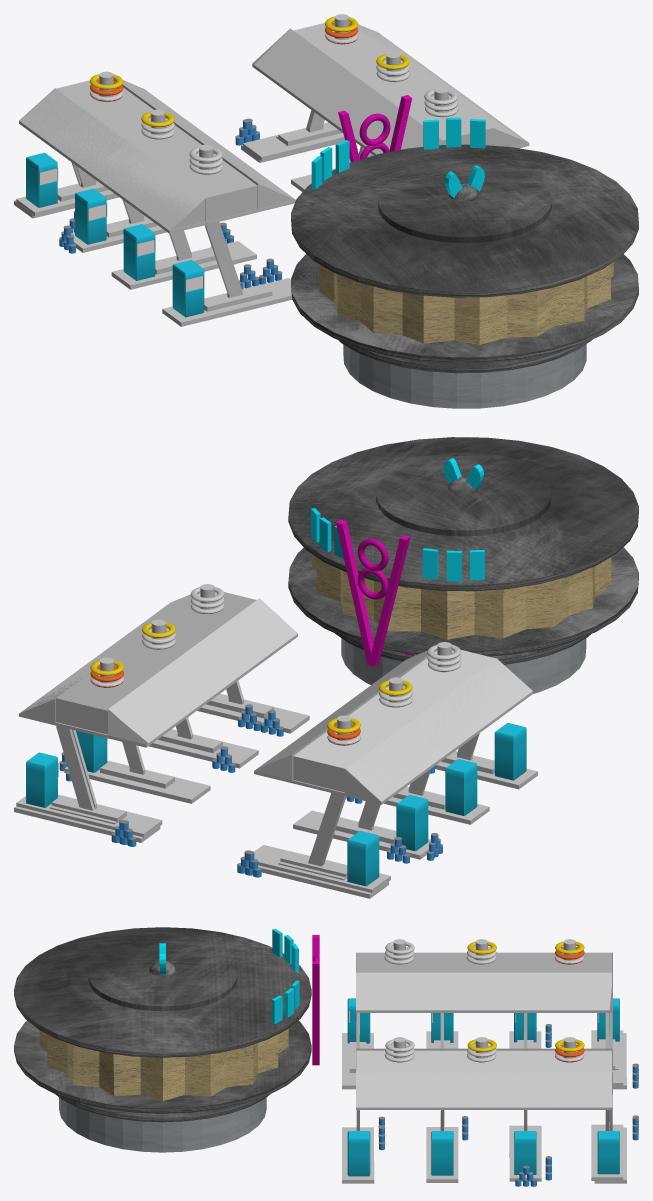
File: FloV8_4.fbx
The picture shows the model from 3 angles, top to bottom: view 1: azimuth 30°, elevation 25°; view 2: azimuth 150°, elevation 25°; view 3: azimuth 270°, elevation 25°; orthographic projection. The views are drawn at different scales.
Parts seen in each view (by area): view 1: Torus.017; view 2: Torus.017; view 3: Torus.017.
Boxes of the visible parts, box(x1,y1,x2,y2) form: Torus.017: box(14, 14, 638, 408); Torus.017: box(14, 437, 638, 898); Torus.017: box(14, 927, 638, 1186).
Size of the model in its own units: 1758 by 862 by 3006.
